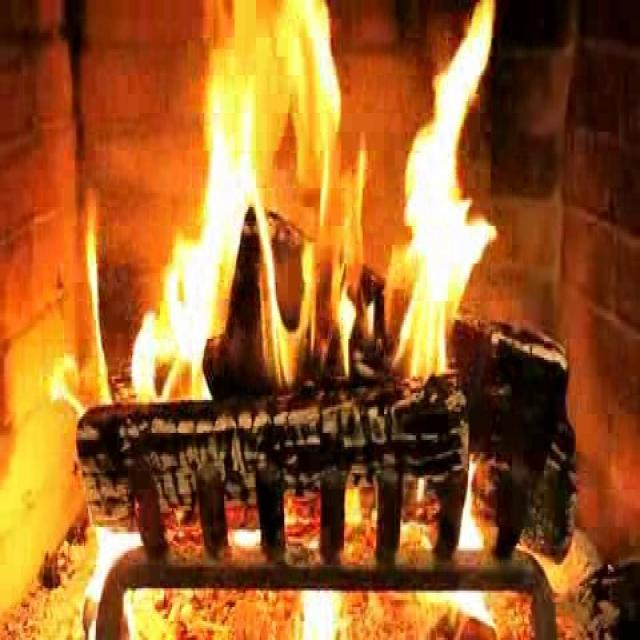fire: (150, 10, 498, 418)
